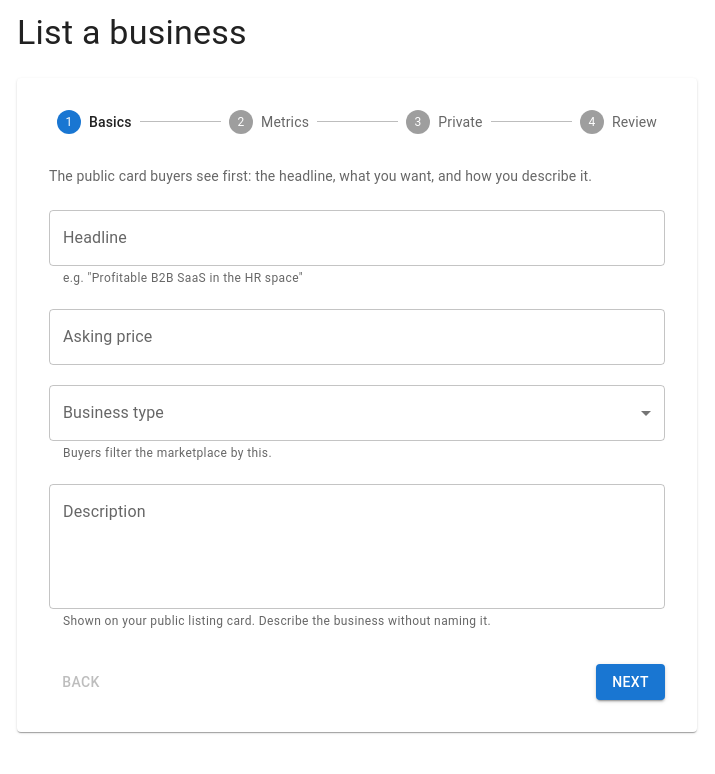
Scenario: ListingWizard › blocks advancing and shows an inline error when asking price is not positive
Type "0" into the field labelled "Asking price".
click(357, 337); type("0")  # box [49,309,665,365]
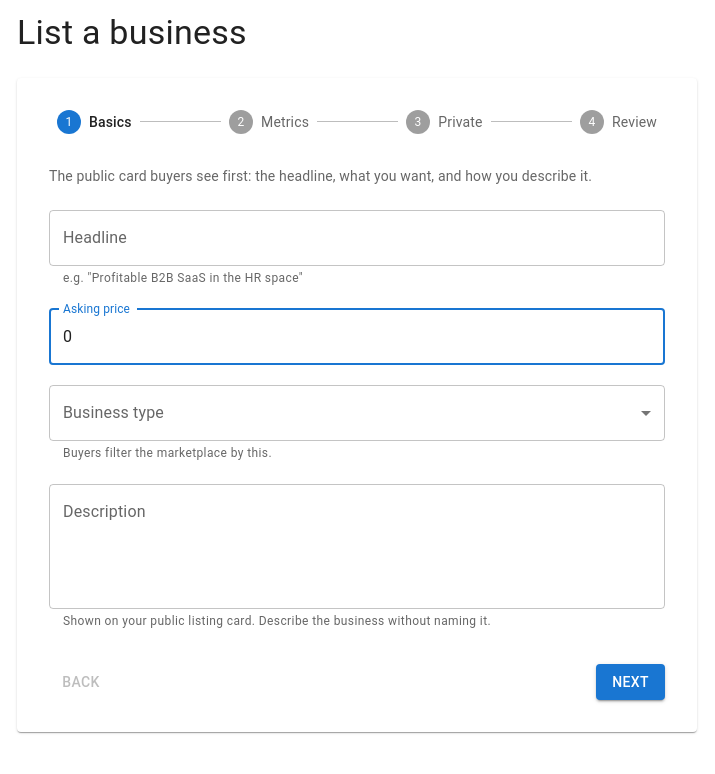
Click the button "Next".
click(631, 682)  # box [596,664,665,700]
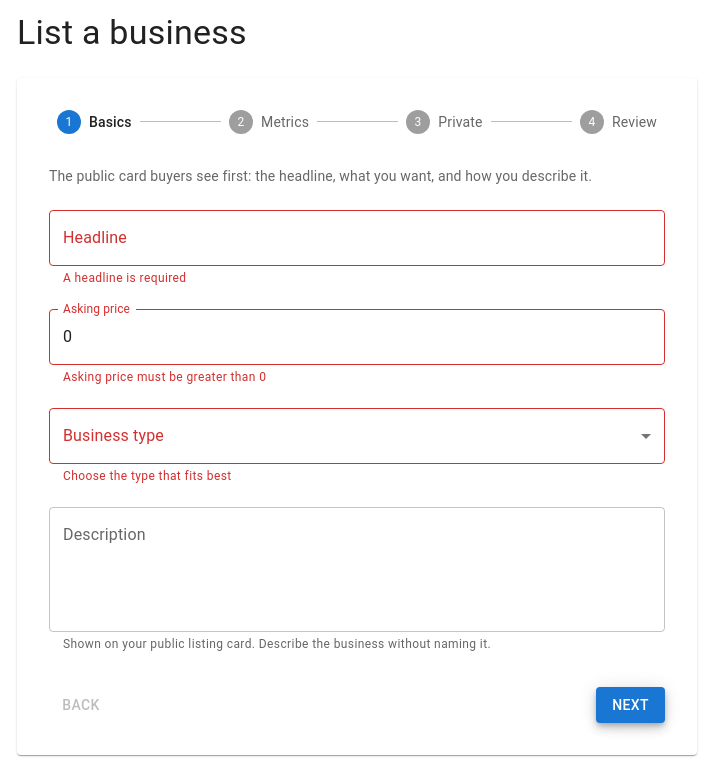
Now the text "Asking price must be greater than 0" is shown, box [63,370,266,384]
